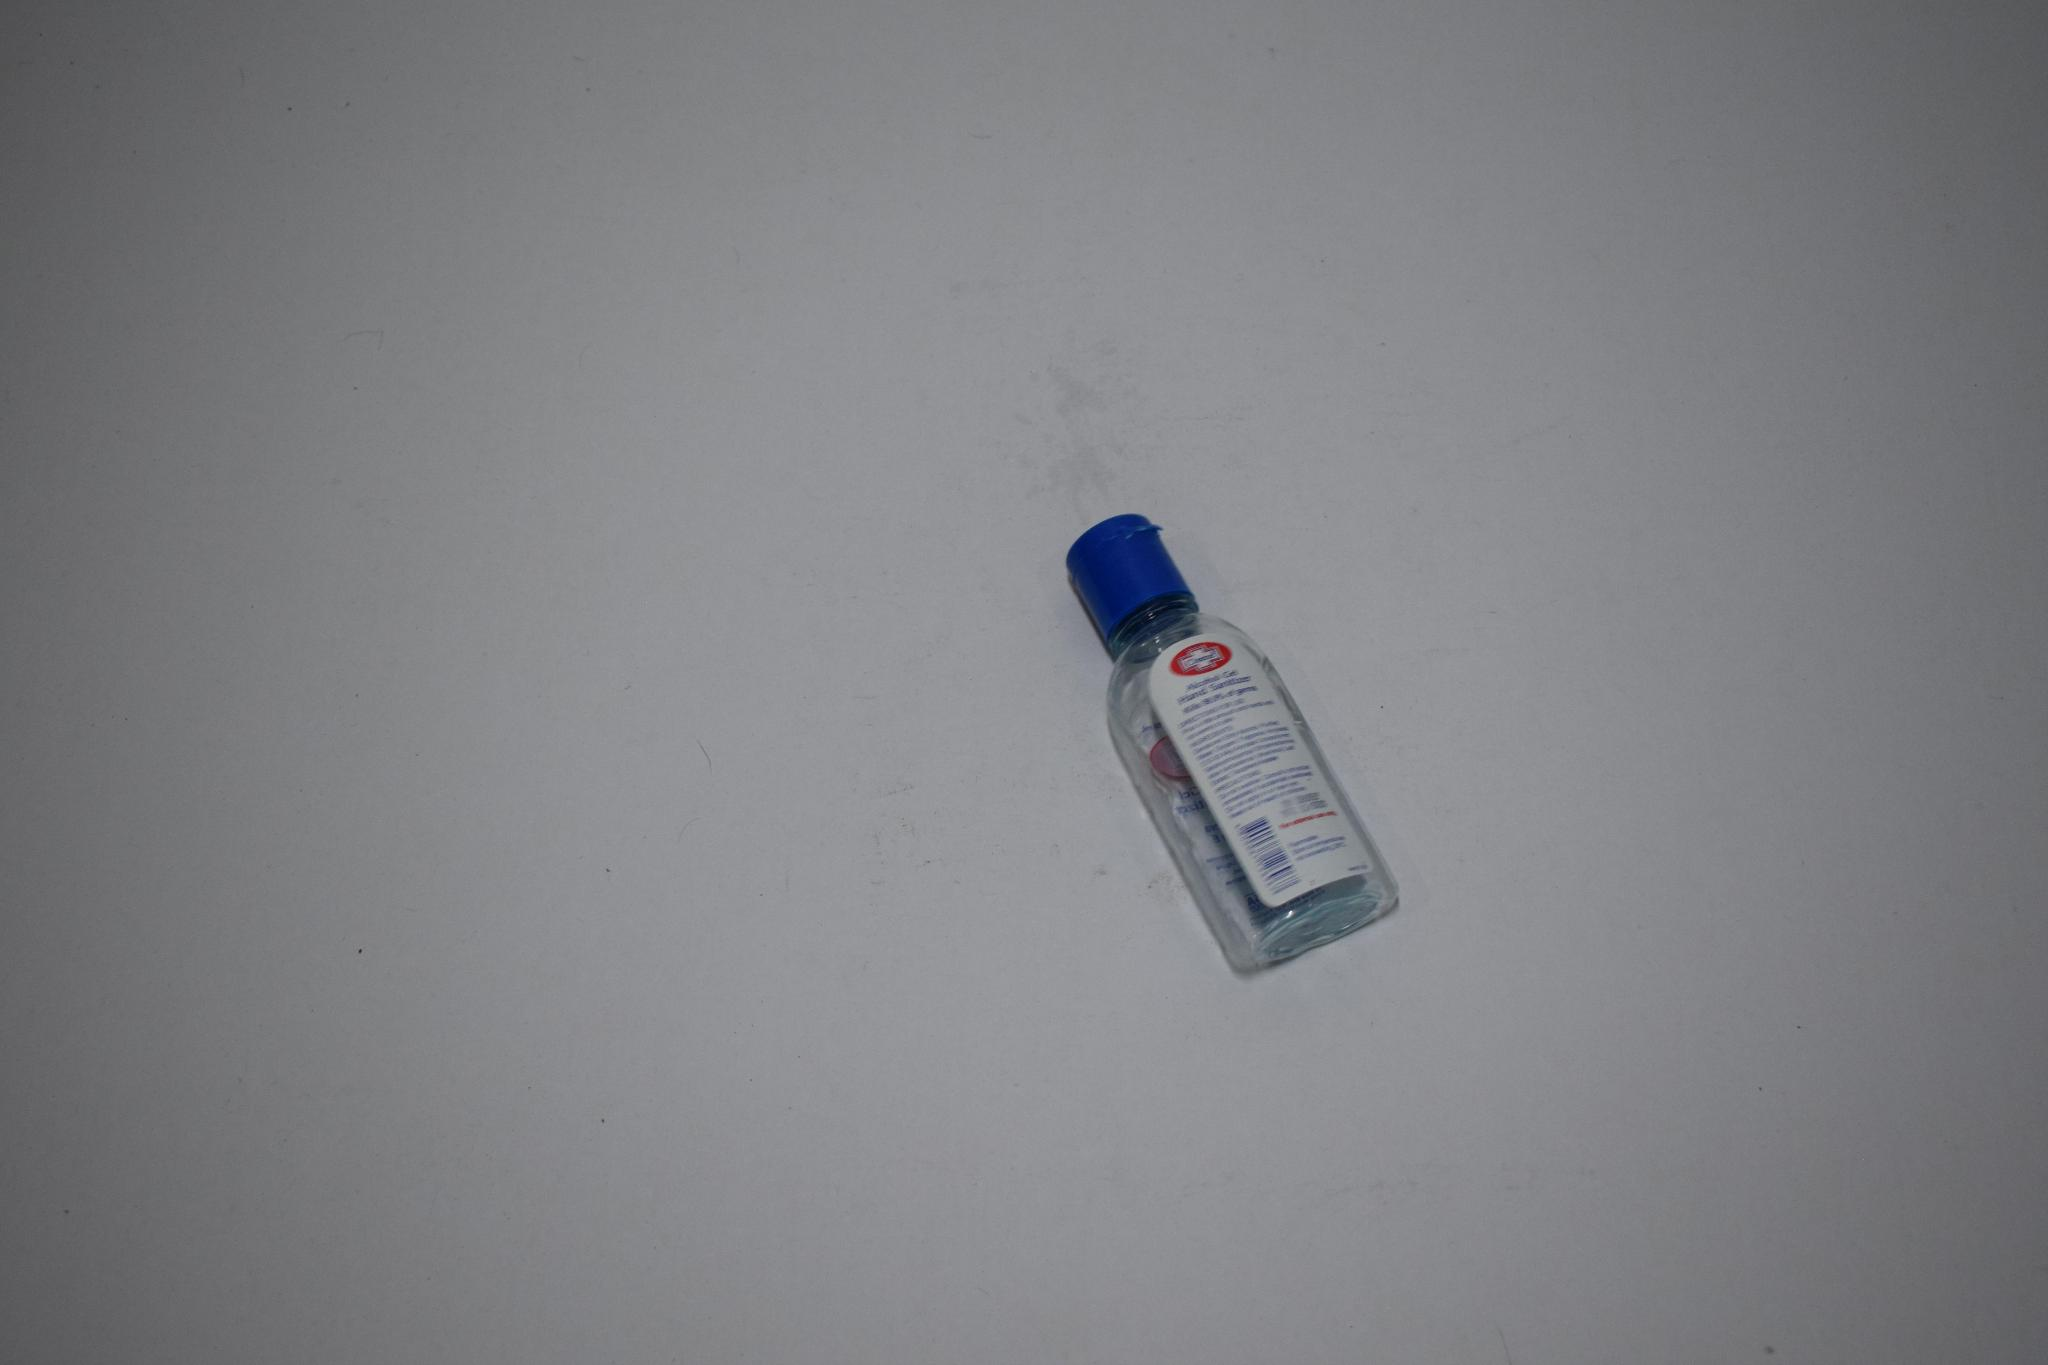bottle: (1005, 508, 1445, 991)
